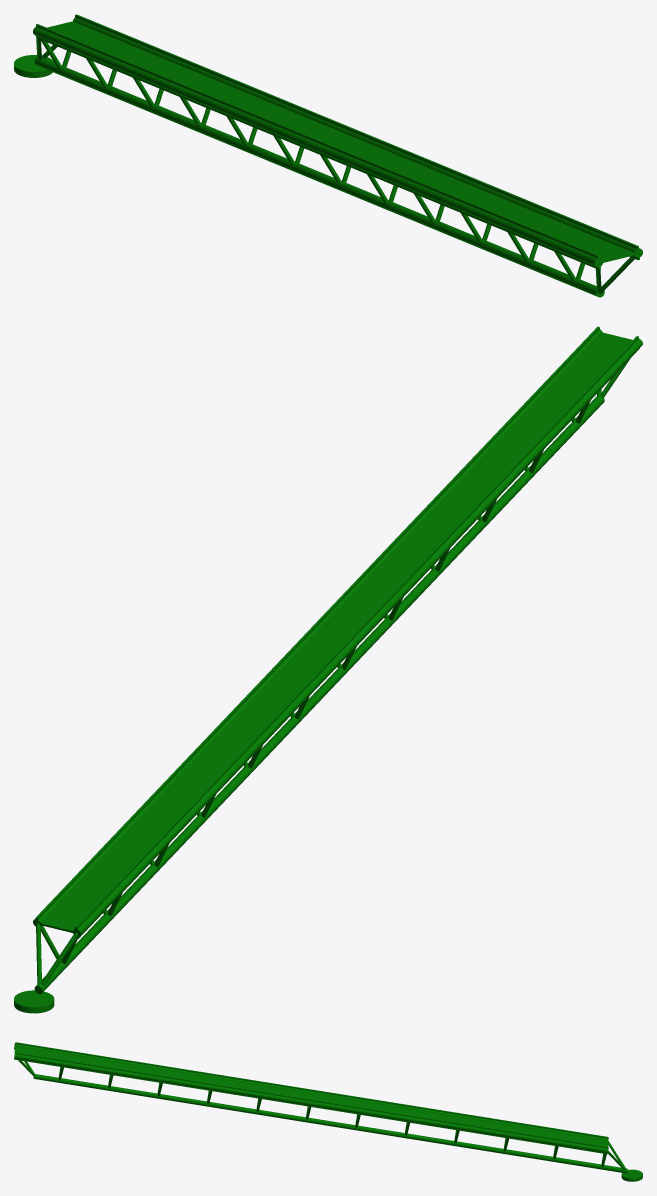
Rendered from Image-1711348097870-2280398507056_BURNER-BOOM.fbx.
3 renders of one model, top to bottom at view 1: azimuth 30°, elevation 25°; view 2: azimuth 150°, elevation 25°; view 3: azimuth 270°, elevation 25°, orthographic. The views are drawn at different scales.
Visible parts, largest first — view 1: BOX 1 of SUBEQUIPMENT 1 of EQUIPMENT /BURNER-BOOM, CYLINDER 1 of SUBEQUIPMENT 1 of EQUIPMENT /BURNER-BOOM, CYLINDER 3 of SUBEQUIPMENT 1 of EQUIPMENT /BURNER-BOOM, BOX 2 of SUBEQUIPMENT 1 of EQUIPMENT /BURNER-BOOM, CYLINDER 2 of SUBEQUIPMENT 1 of EQUIPMENT /BURNER-BOOM, BOX 3 of SUBEQUIPMENT 1 of EQUIPMENT /BURNER-BOOM, CYLINDER 1 of SUBEQUIPMENT 2 of EQUIPMENT /BURNER-BOOM; view 2: BOX 1 of SUBEQUIPMENT 1 of EQUIPMENT /BURNER-BOOM, CYLINDER 1 of SUBEQUIPMENT 1 of EQUIPMENT /BURNER-BOOM, CYLINDER 3 of SUBEQUIPMENT 1 of EQUIPMENT /BURNER-BOOM, CYLINDER 2 of SUBEQUIPMENT 1 of EQUIPMENT /BURNER-BOOM, BOX 2 of SUBEQUIPMENT 1 of EQUIPMENT /BURNER-BOOM, BOX 3 of SUBEQUIPMENT 1 of EQUIPMENT /BURNER-BOOM; view 3: BOX 1 of SUBEQUIPMENT 1 of EQUIPMENT /BURNER-BOOM, CYLINDER 1 of SUBEQUIPMENT 1 of EQUIPMENT /BURNER-BOOM, CYLINDER 2 of SUBEQUIPMENT 1 of EQUIPMENT /BURNER-BOOM, BOX 3 of SUBEQUIPMENT 1 of EQUIPMENT /BURNER-BOOM, CYLINDER 3 of SUBEQUIPMENT 1 of EQUIPMENT /BURNER-BOOM, BOX 2 of SUBEQUIPMENT 1 of EQUIPMENT /BURNER-BOOM, CYLINDER 1 of SUBEQUIPMENT 2 of EQUIPMENT /BURNER-BOOM.
Part boxes in pixels (x1,y1,x2,y2): BOX 1 of SUBEQUIPMENT 1 of EQUIPMENT /BURNER-BOOM: [47, 21, 637, 262]; CYLINDER 1 of SUBEQUIPMENT 1 of EQUIPMENT /BURNER-BOOM: [34, 57, 604, 297]; CYLINDER 3 of SUBEQUIPMENT 1 of EQUIPMENT /BURNER-BOOM: [33, 27, 602, 267]; BOX 2 of SUBEQUIPMENT 1 of EQUIPMENT /BURNER-BOOM: [36, 24, 600, 269]; CYLINDER 2 of SUBEQUIPMENT 1 of EQUIPMENT /BURNER-BOOM: [73, 17, 642, 257]; BOX 3 of SUBEQUIPMENT 1 of EQUIPMENT /BURNER-BOOM: [75, 14, 639, 260]; CYLINDER 1 of SUBEQUIPMENT 2 of EQUIPMENT /BURNER-BOOM: [14, 55, 53, 77]; BOX 1 of SUBEQUIPMENT 1 of EQUIPMENT /BURNER-BOOM: [39, 332, 632, 933]; CYLINDER 1 of SUBEQUIPMENT 1 of EQUIPMENT /BURNER-BOOM: [34, 395, 604, 993]; CYLINDER 3 of SUBEQUIPMENT 1 of EQUIPMENT /BURNER-BOOM: [73, 338, 642, 937]; CYLINDER 2 of SUBEQUIPMENT 1 of EQUIPMENT /BURNER-BOOM: [33, 329, 602, 926]; BOX 2 of SUBEQUIPMENT 1 of EQUIPMENT /BURNER-BOOM: [75, 336, 639, 938]; BOX 3 of SUBEQUIPMENT 1 of EQUIPMENT /BURNER-BOOM: [36, 326, 599, 922]; BOX 1 of SUBEQUIPMENT 1 of EQUIPMENT /BURNER-BOOM: [14, 1046, 608, 1146]; CYLINDER 1 of SUBEQUIPMENT 1 of EQUIPMENT /BURNER-BOOM: [33, 1074, 627, 1173]; CYLINDER 2 of SUBEQUIPMENT 1 of EQUIPMENT /BURNER-BOOM: [14, 1054, 608, 1153]; BOX 3 of SUBEQUIPMENT 1 of EQUIPMENT /BURNER-BOOM: [14, 1052, 608, 1154]; CYLINDER 3 of SUBEQUIPMENT 1 of EQUIPMENT /BURNER-BOOM: [14, 1044, 608, 1140]; BOX 2 of SUBEQUIPMENT 1 of EQUIPMENT /BURNER-BOOM: [14, 1042, 608, 1138]; CYLINDER 1 of SUBEQUIPMENT 2 of EQUIPMENT /BURNER-BOOM: [621, 1169, 642, 1181].
Bounding box in the file's own units: 1.17 × 25.05 × 5.71.
